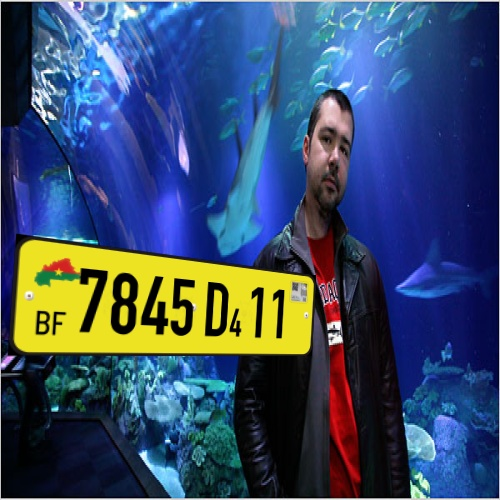plate: (9, 218, 332, 392)
